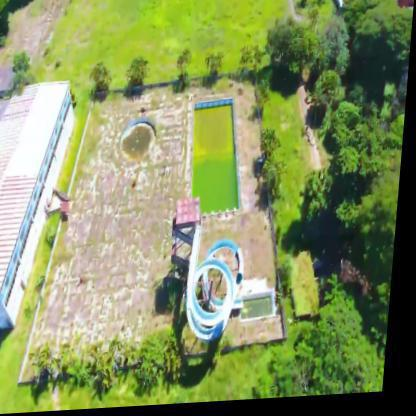agua: (190, 106, 246, 216), (122, 120, 159, 164)
